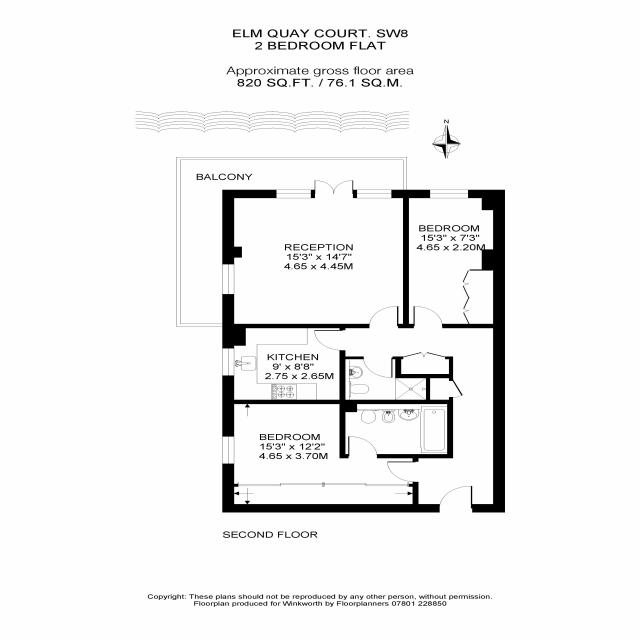DOOR: (438, 485, 473, 513), (412, 304, 444, 328), (347, 435, 378, 458), (368, 305, 399, 328), (313, 329, 345, 351), (386, 461, 419, 482), (362, 356, 393, 378)
DOUBLE DOOR: (314, 179, 354, 196)
ROOM: (222, 179, 409, 328), (222, 399, 419, 513), (403, 190, 505, 328), (222, 324, 346, 404)
WINDOW: (428, 189, 470, 199), (222, 263, 235, 295), (221, 436, 235, 465), (275, 189, 313, 199), (355, 189, 393, 199), (222, 348, 235, 376)
